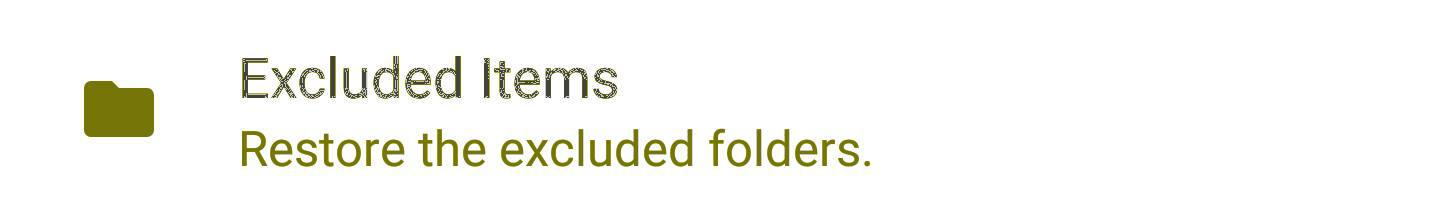CheckedTextView: (1, 1, 1439, 207)
